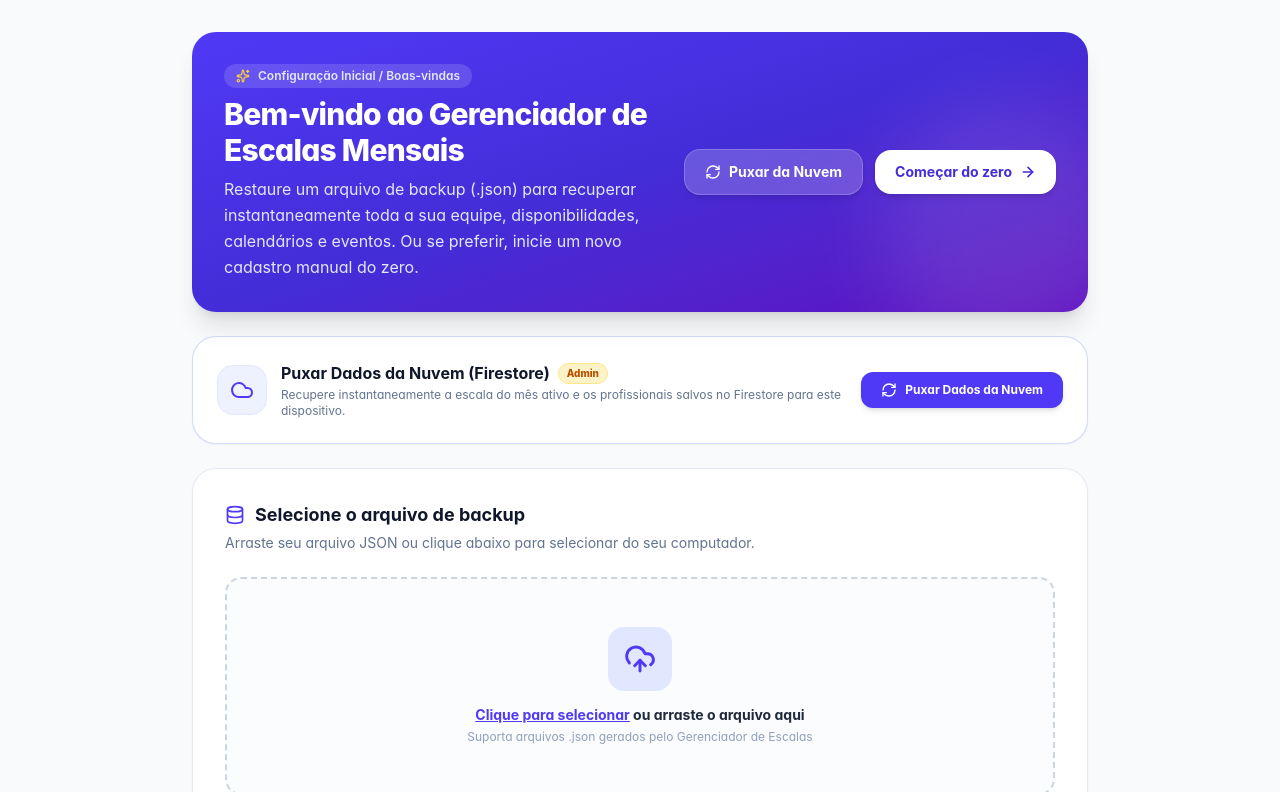
Scenario: ImportView Component › shows the cloud pull buttons to admins and pulls the data
The width and height of the screenshot is (1280, 792).
Expected: the text "Configuração Inicial / Boas-vindas" is shown, [224,64,472,88]
Expected: the element with test id "admin-cloud-pull-card" is shown, [192,336,1088,444]
What coordinates should you click on to do the following:
click the button with test id "import-pull-cloud-button"
I would click on:
 (962, 390)
Its box is [861,372,1063,408].
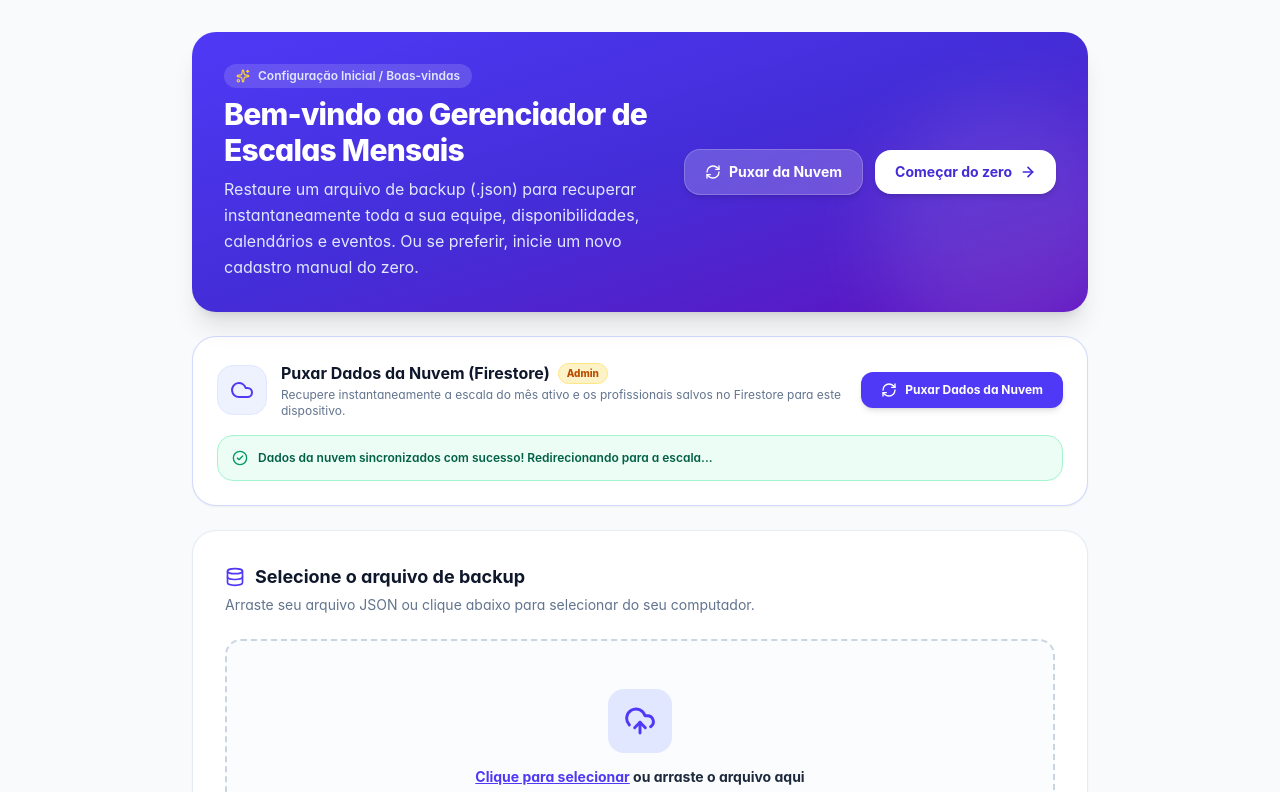
Expected: the element with test id "cloud-feedback-banner" is shown, [217,435,1063,481]
Expected: the text "Dados da nuvem sincronizados com sucesso!" is shown, [258,450,712,465]
